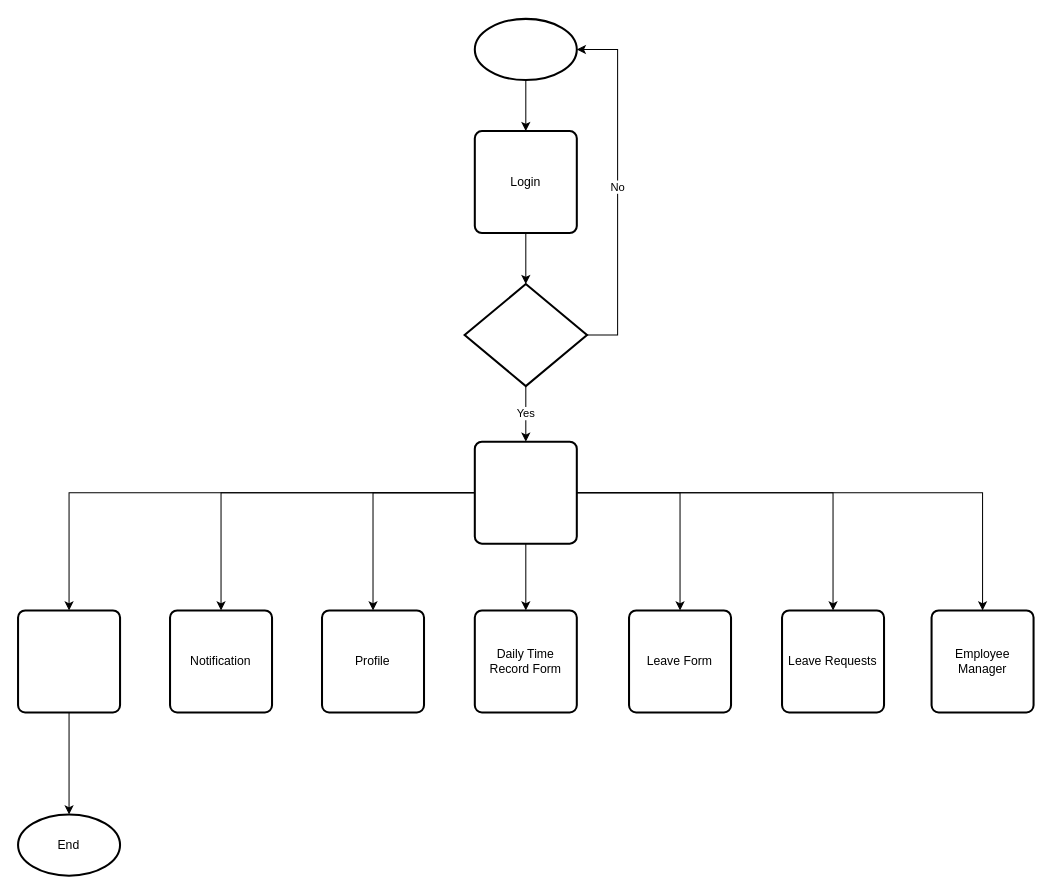
Image size: 1053x894. Some labels were removed from this diagram. Here are the shapes that lost their labels. From the top down, the centre of each, then its label:
At point (525, 49): "Start".
At point (525, 335): "Is authenticated?".
At point (525, 492): "Home".
At point (69, 661): "Logout".
